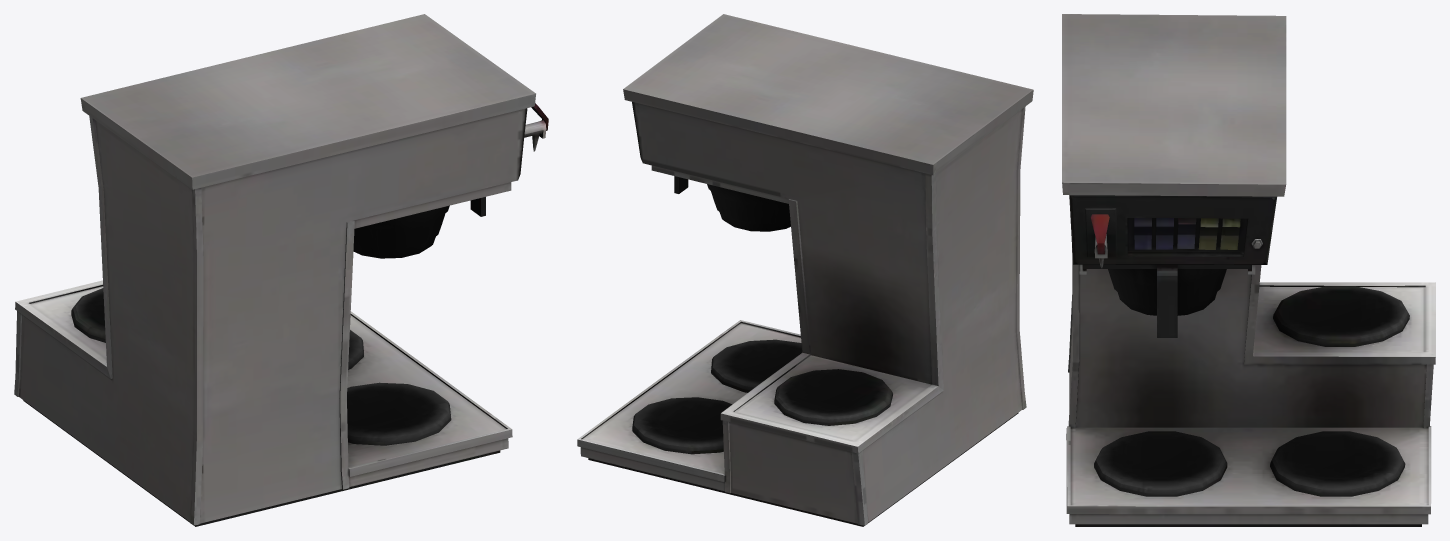
3 views of the same model, side by side, from view 1: azimuth 30°, elevation 25°; view 2: azimuth 150°, elevation 25°; view 3: azimuth 270°, elevation 25° (orthographic). The views are drawn at different scales.
Visible parts, largest first — view 1: body0_model0_lod0_mesh0; view 2: body0_model0_lod0_mesh0; view 3: body0_model0_lod0_mesh0.
Part boxes in pixels (<box>): body0_model0_lod0_mesh0: <box>14,14,548,526</box>; body0_model0_lod0_mesh0: <box>577,14,1033,526</box>; body0_model0_lod0_mesh0: <box>1062,14,1435,526</box>.
Bounding box in the file's own units: 39.22 × 35.72 × 33.75.
1 material, 1 textured.
